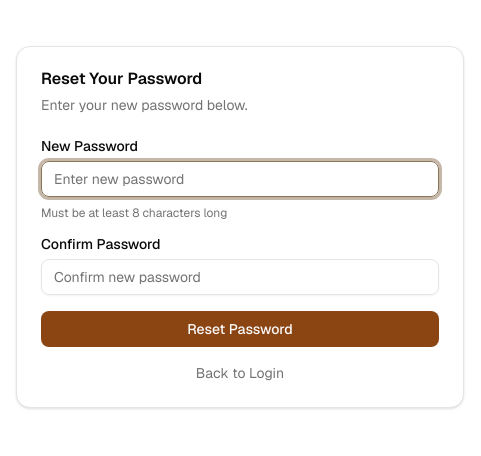
Test: ResetPasswordPage › should validate password match
Expected: the text "Reset Your Password" is shown, left=41, top=68, right=202, bottom=89
In the password field labelled "New Password": point(240, 179) left=41, top=161, right=439, bottom=197, type "password123"
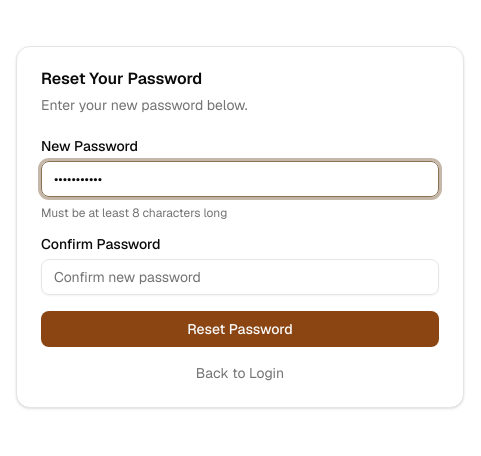
In the password field labelled "Confirm Password": point(240, 277) left=41, top=259, right=439, bottom=295, type "different123"
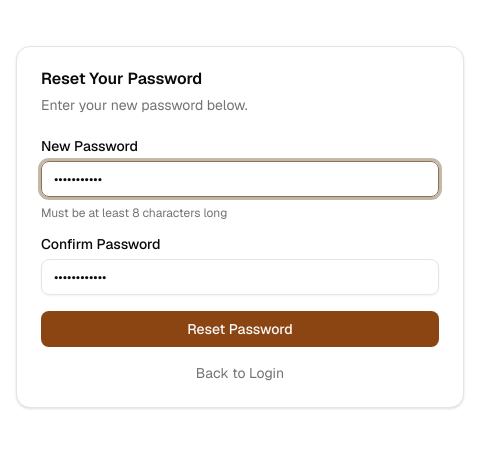
Click the button "Reset Password": point(240, 329) left=41, top=311, right=439, bottom=347
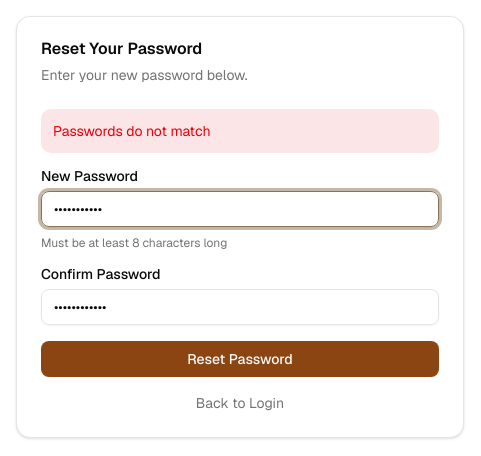
Expected: the text "Passwords do not match" is shown, left=41, top=109, right=439, bottom=153
